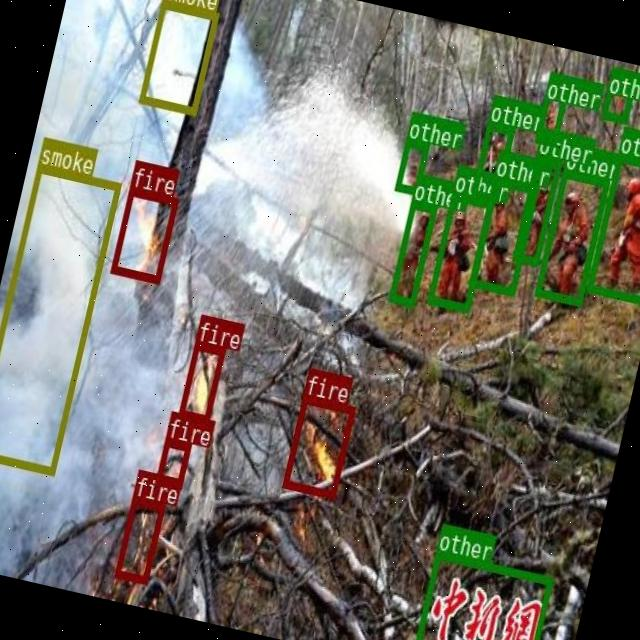fire: (282, 394, 355, 497), (110, 185, 178, 282), (113, 494, 164, 582), (177, 340, 224, 422), (156, 437, 191, 486)
smoke: (0, 163, 121, 474), (137, 0, 217, 113)
